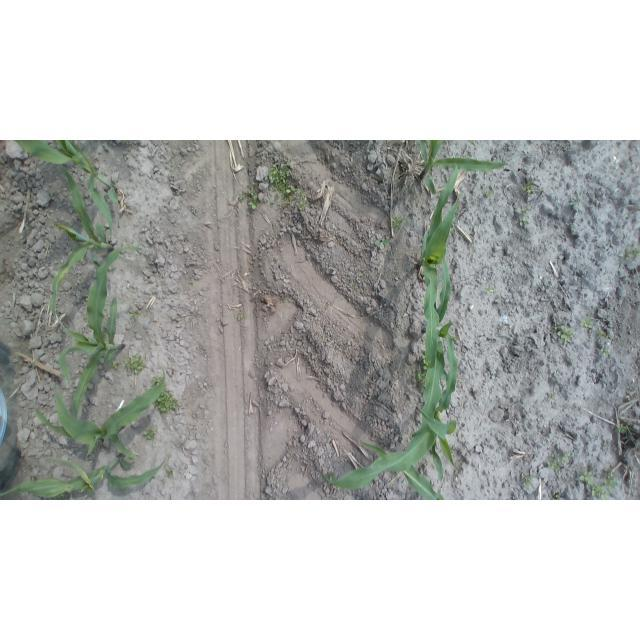Maize: (322, 330, 467, 495), (50, 243, 148, 417), (41, 167, 119, 343), (34, 368, 169, 458), (415, 164, 469, 371), (11, 141, 125, 238), (417, 254, 465, 434), (0, 452, 178, 500), (361, 438, 471, 500), (411, 141, 526, 192)
Weeds: (267, 162, 299, 194), (158, 389, 182, 416), (238, 186, 262, 212), (124, 354, 149, 377), (282, 188, 307, 211), (552, 320, 573, 344), (604, 466, 621, 492), (590, 485, 613, 500), (621, 244, 640, 260), (414, 370, 431, 387), (523, 180, 538, 199), (150, 374, 166, 391), (548, 453, 563, 471), (126, 306, 140, 323), (391, 215, 404, 233), (144, 427, 159, 442), (577, 470, 593, 484), (596, 329, 614, 341), (108, 358, 122, 372), (524, 475, 537, 490), (581, 317, 595, 330), (235, 310, 249, 323), (326, 473, 338, 488), (567, 196, 583, 207), (375, 238, 391, 248), (560, 453, 572, 466), (481, 284, 495, 295), (598, 347, 612, 358), (615, 423, 629, 434), (484, 184, 494, 199), (546, 392, 558, 404), (164, 466, 175, 479), (420, 353, 428, 370), (518, 217, 531, 227), (184, 276, 197, 286), (553, 491, 565, 500), (520, 206, 531, 215), (399, 162, 409, 171)
